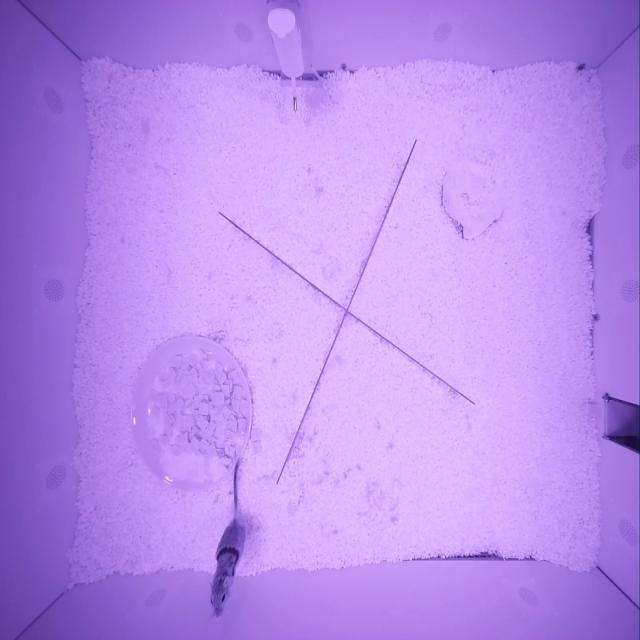adult_front: (209, 516, 248, 618)
